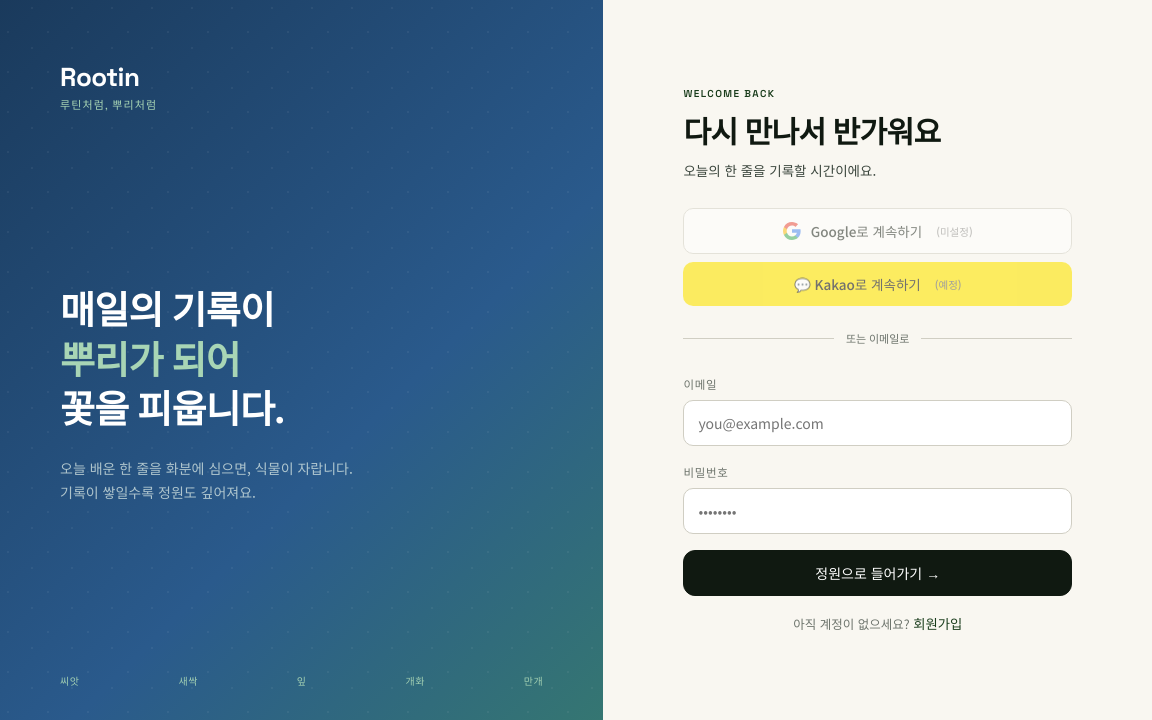
Test: 클라이언트 유효성 검사 › 이메일 형식이 잘못되면 에러 메시지가 표시된다
The image size is (1152, 720).
Type "notanemail" into the field with placeholder "you@example.com".
click(878, 423); type("notanemail")  # box x1=683 y1=400 x2=1072 y2=446
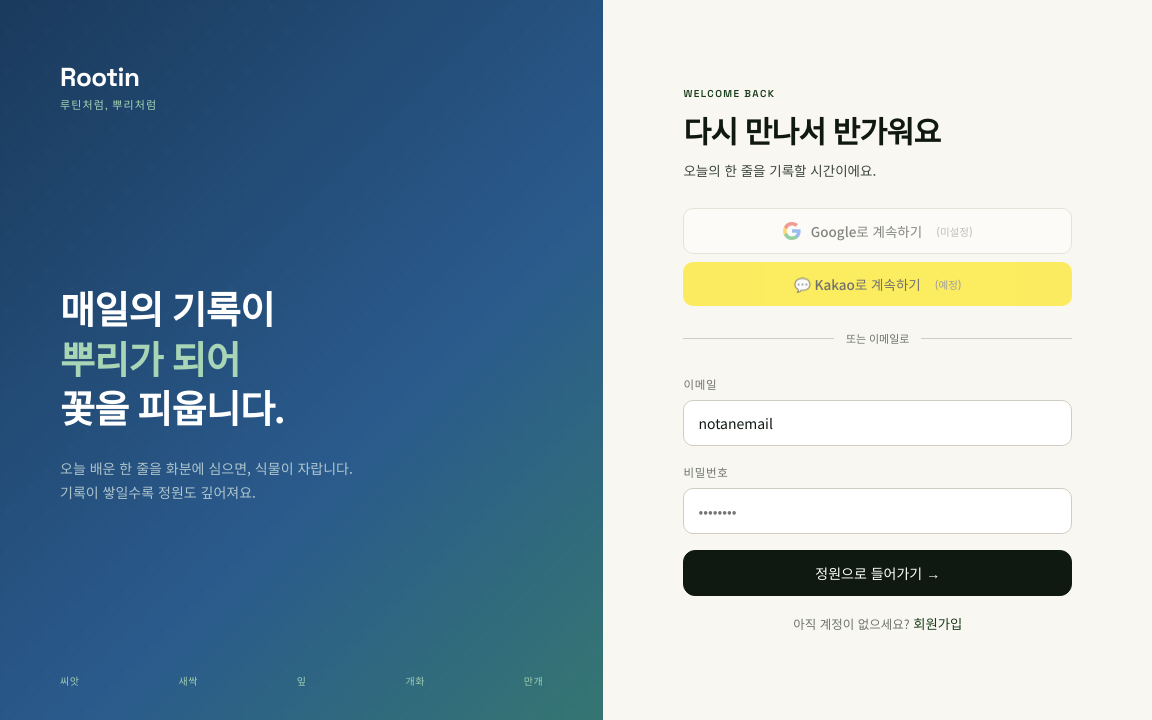
Click the button "정원으로 들어가기 →".
click(878, 573)  # box x1=683 y1=550 x2=1072 y2=596
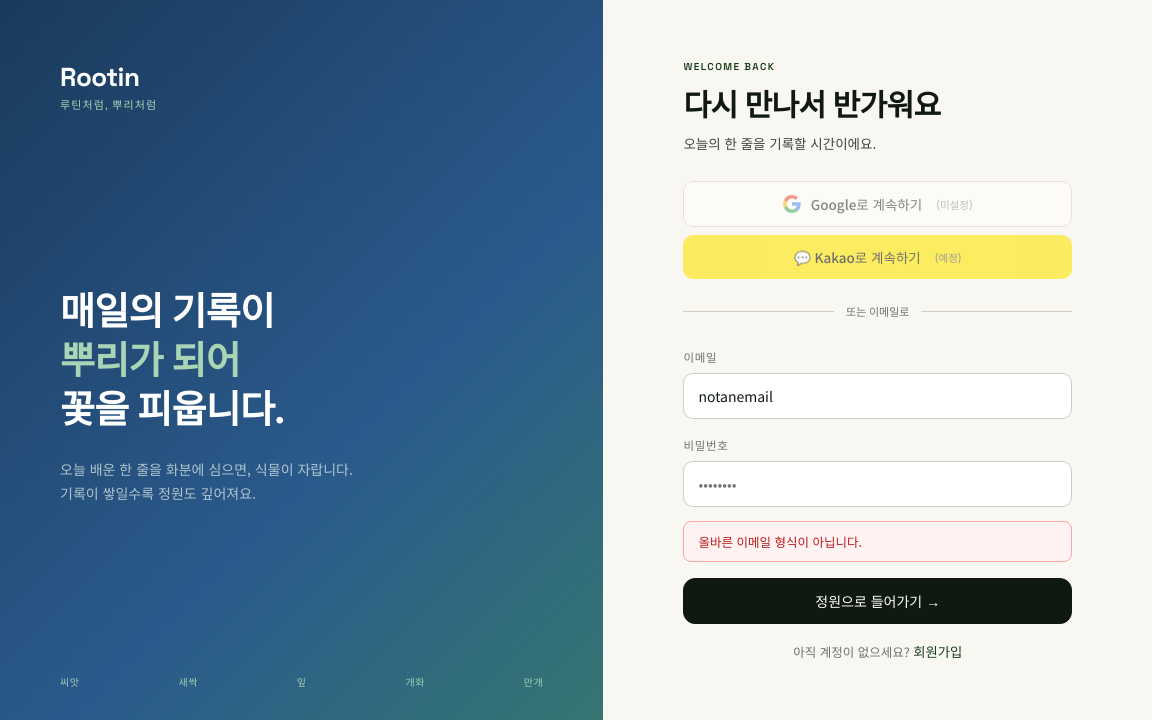
Expected: the text "올바른 이메일 형식이 아닙니다." is shown, x1=683 y1=521 x2=1072 y2=562
